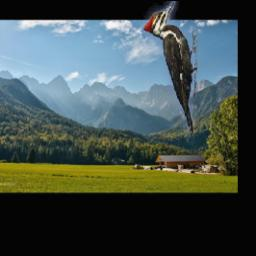Woodpecker: (143, 2, 197, 145)
